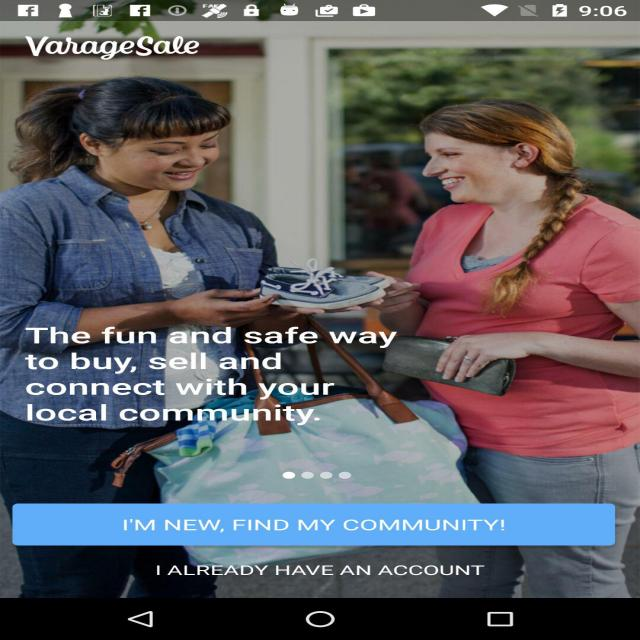button: (5, 500, 622, 550), (132, 554, 506, 588), (268, 460, 363, 484)
icon: (260, 457, 368, 487)
image: (0, 21, 640, 600)
text: (12, 317, 400, 426), (100, 511, 516, 536), (144, 561, 493, 582), (10, 30, 213, 60)
